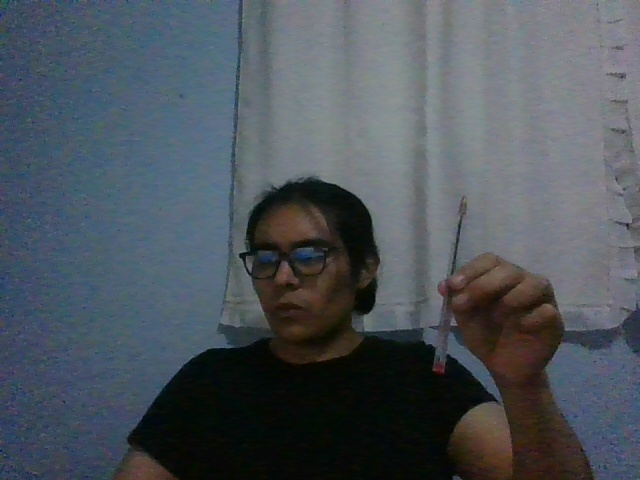pluma: (430, 194, 468, 376)
